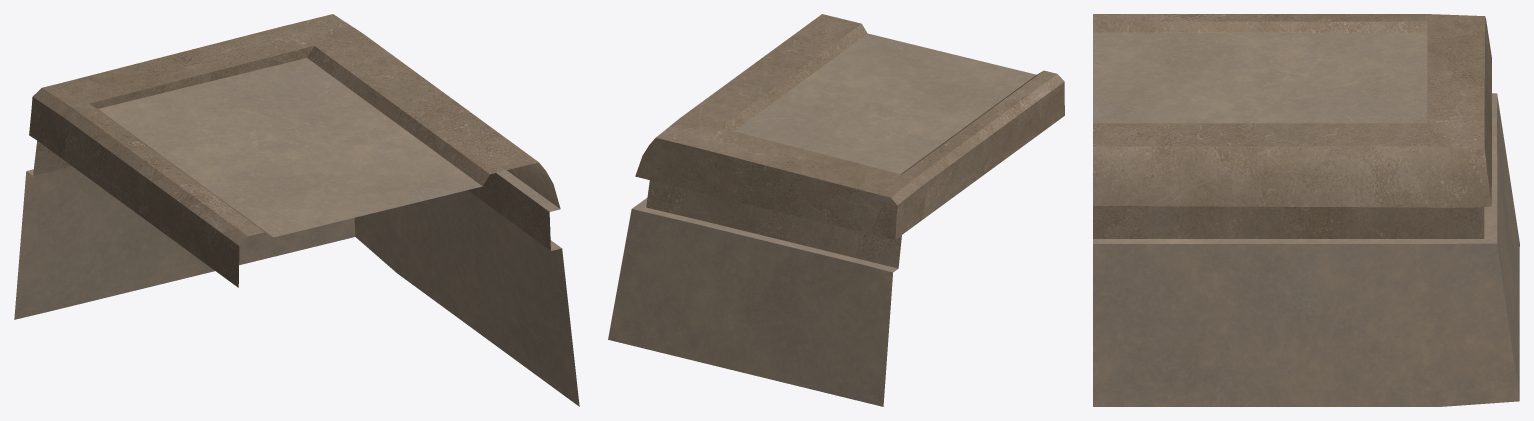
Rendered from Trottoir_2.2.fbx.
The picture shows the model from 3 angles, left to right: view 1: azimuth 30°, elevation 25°; view 2: azimuth 150°, elevation 25°; view 3: azimuth 270°, elevation 25°; orthographic projection. The views are drawn at different scales.
Parts seen in each view (by area): view 1: Trottoir_2.2; view 2: Trottoir_2.2; view 3: Trottoir_2.2.
Boxes of the visible parts, x1,y1,x2,y2 form: Trottoir_2.2: (14,14,579,406); Trottoir_2.2: (608,14,1064,406); Trottoir_2.2: (1093,14,1519,406).
Bounding box in the file's own units: 856 × 611 × 976.
